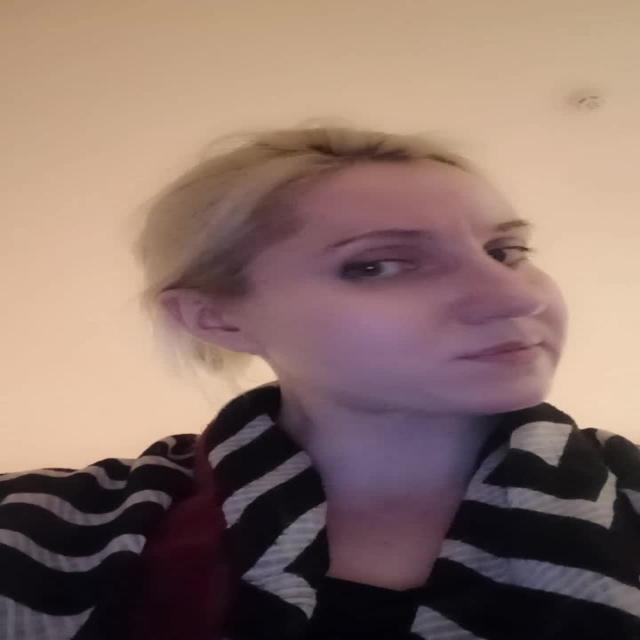earlobe: (226, 329, 265, 353)
eye: (339, 258, 416, 280), (481, 243, 529, 266)
nose: (466, 306, 570, 340)
wholeear: (154, 290, 266, 354)
